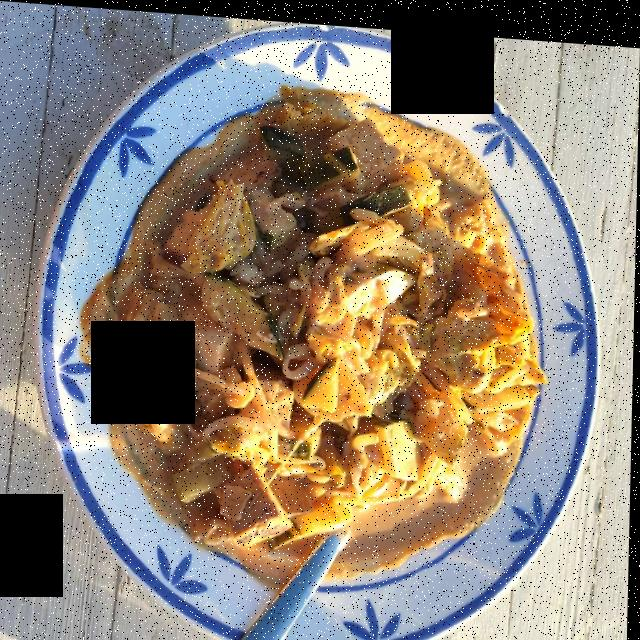curry-vegetarian: (107, 90, 528, 554)
